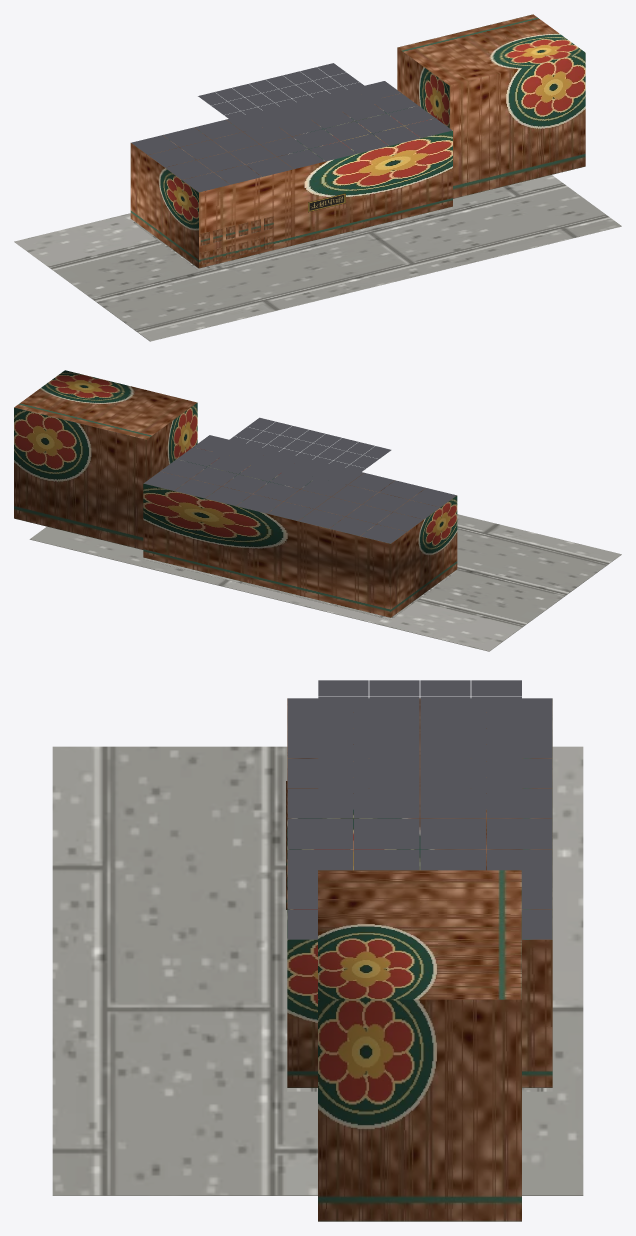
3 views of the same model, one above another, from view 1: azimuth 30°, elevation 25°; view 2: azimuth 150°, elevation 25°; view 3: azimuth 270°, elevation 25° (orthographic). The views are drawn at different scales.
Parts seen in each view (by area): view 1: 11140_02_04564_038_02_L2__body, 11140_02_04564_038_01_L2__base, 11140_02_04564_038_03_L2__roof, 11140_02_04564_038_05_L2__openings; view 2: 11140_02_04564_038_02_L2__body, 11140_02_04564_038_01_L2__base, 11140_02_04564_038_03_L2__roof; view 3: 11140_02_04564_038_01_L2__base, 11140_02_04564_038_02_L2__body, 11140_02_04564_038_03_L2__roof.
Part boxes in pixels (x1,y1,x2,y2): 11140_02_04564_038_02_L2__body: [130, 14, 585, 268]; 11140_02_04564_038_01_L2__base: [14, 175, 621, 341]; 11140_02_04564_038_03_L2__roof: [131, 63, 452, 192]; 11140_02_04564_038_05_L2__openings: [200, 216, 273, 264]; 11140_02_04564_038_02_L2__body: [14, 370, 457, 617]; 11140_02_04564_038_01_L2__base: [29, 514, 621, 651]; 11140_02_04564_038_03_L2__roof: [144, 417, 456, 543]; 11140_02_04564_038_01_L2__base: [52, 746, 583, 1195]; 11140_02_04564_038_02_L2__body: [287, 698, 552, 1221]; 11140_02_04564_038_03_L2__roof: [287, 680, 552, 939].
Size of the model in its own units: 111 by 24.52 by 52.
5 materials, 5 textured.
